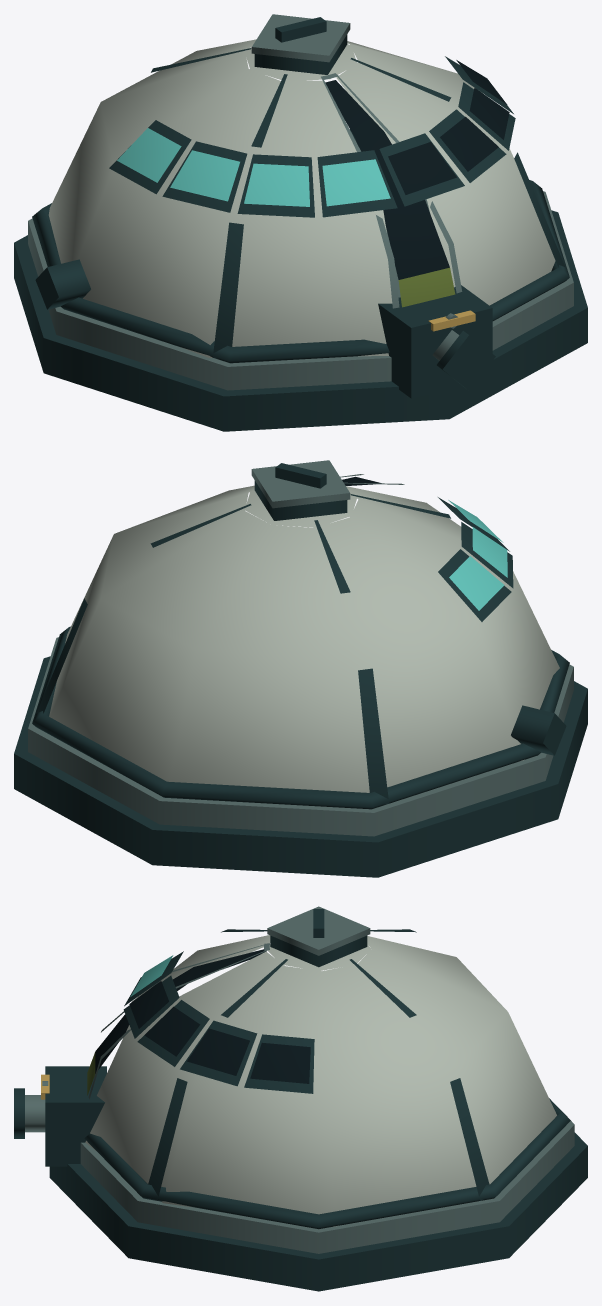
File: yushi037_container_d0_lod2.meshopt.glb
3 renders of one model, top to bottom at view 1: azimuth 30°, elevation 25°; view 2: azimuth 150°, elevation 25°; view 3: azimuth 270°, elevation 25°, orthographic. The views are drawn at different scales.
Visible parts, largest first — view 1: YUSHI_BODY; view 2: YUSHI_BODY; view 3: YUSHI_BODY.
Boxes of the visible parts, x1=… form: YUSHI_BODY: x1=14, y1=14, x2=587, y2=431; YUSHI_BODY: x1=14, y1=460, x2=587, y2=877; YUSHI_BODY: x1=14, y1=906, x2=587, y2=1291.
Size of the model in its own units: 3.66 by 1.94 by 3.9.
